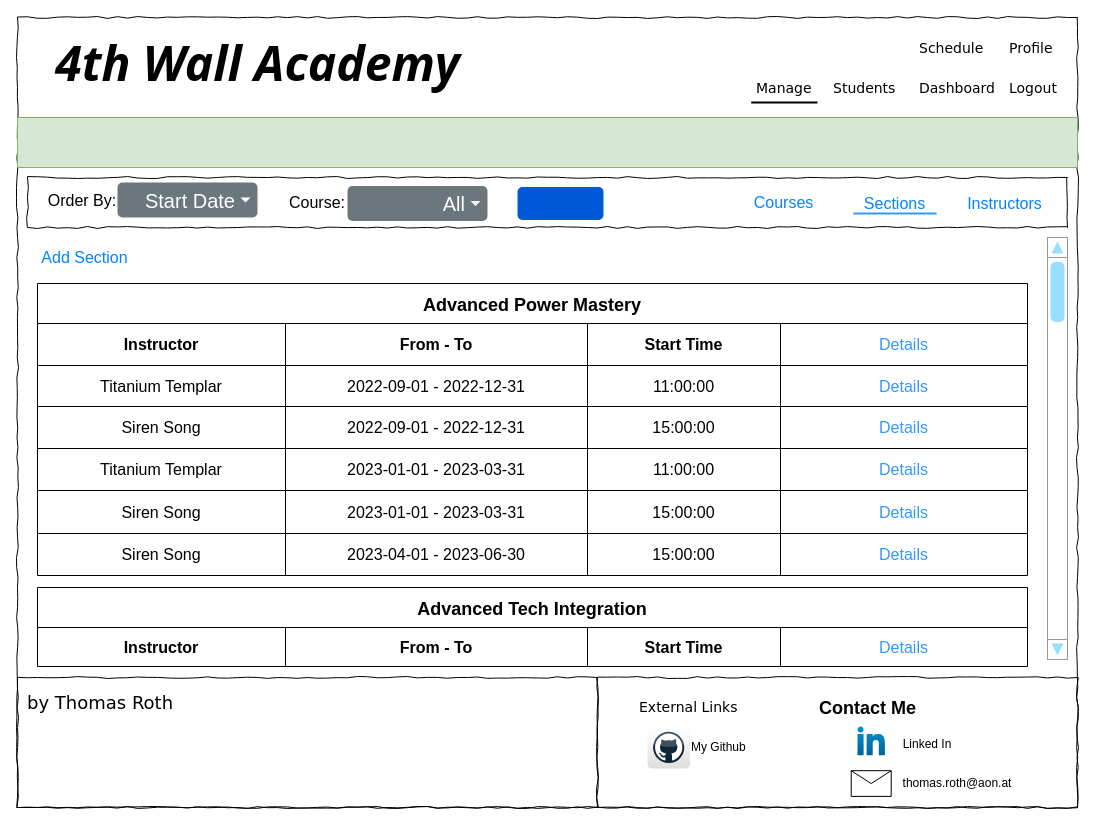
Image size: 1095x825. Some labels were removed from this diagram. The shapes that lost their labels are listed below. From the top down, each one's box as (x1, y1, x2, y2) in pixels, then its label:
(16, 116, 1078, 168): Section with ID 165 has been added successfully
(517, 186, 603, 220): Apply
